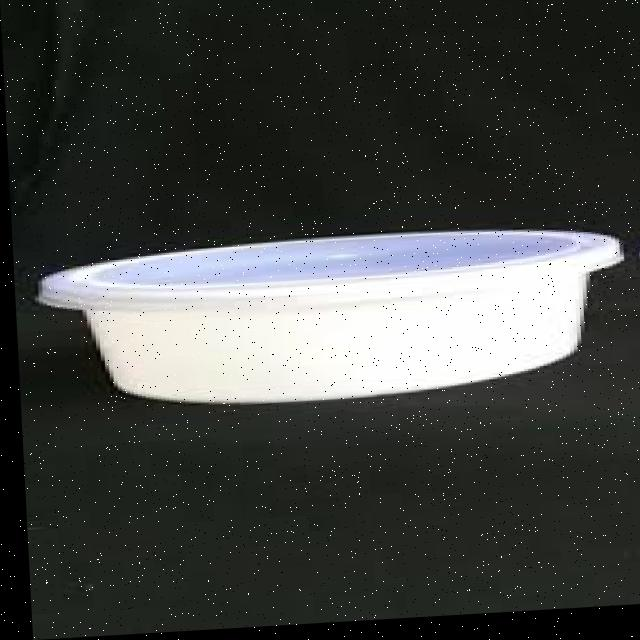disposable: (45, 206, 614, 431)
